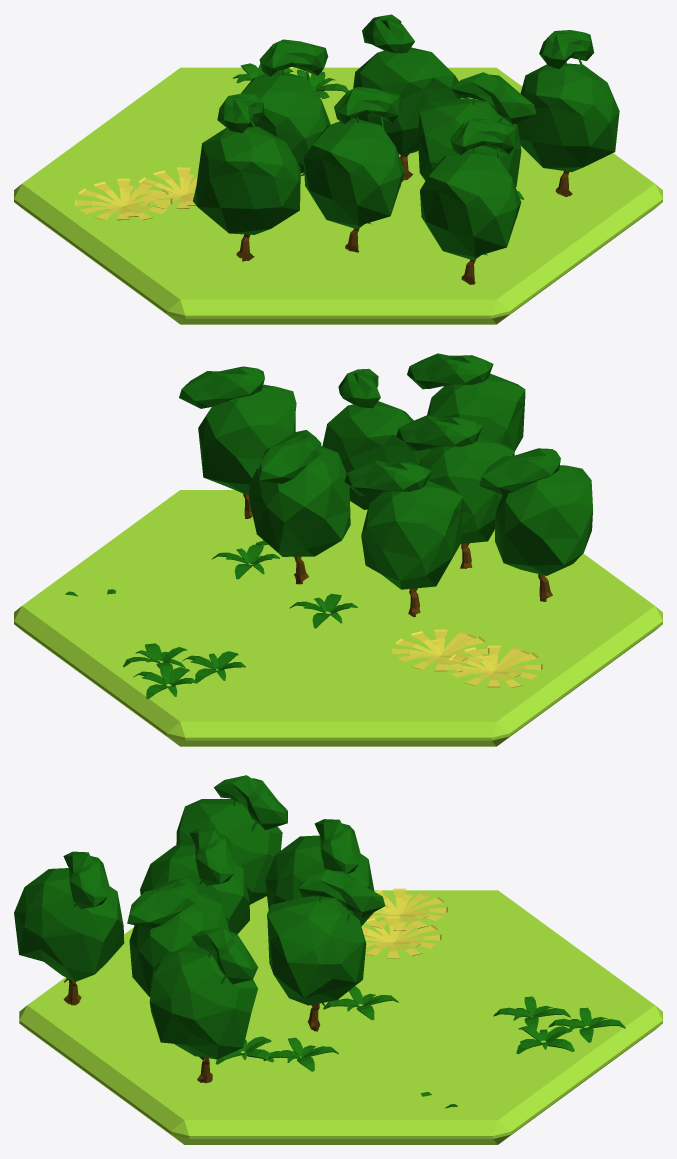
File: Wald.fbx
3 views of the same model, one above another, from view 1: azimuth 30°, elevation 25°; view 2: azimuth 150°, elevation 25°; view 3: azimuth 270°, elevation 25° (orthographic).
Parts seen in each view (by area): view 1: Cylinder.001, Bush_3.004, Bush_3.001, Bush_3.007, Bush_3.002, Bush_3.006, Bush_3.003, Bush_3.005, Plant_4, Plant_4.002, Plant_3.004; view 2: Cylinder.001, Bush_3.003, Bush_3.004, Bush_3.006, Bush_3.002, Bush_3.007, Bush_3.001, Bush_3.005, Plant_4, Plant_4.002, Plant_3.002, Plant_3.008 (+3 smaller); view 3: Cylinder.001, Bush_3.006, Bush_3.002, Bush_3.001, Bush_3.004, Bush_3.005, Bush_3.007, Bush_3.003, Plant_4.002, Plant_4, Plant_3.004, Plant_3.008 (+4 smaller).
Part boxes in pixels (x1,y1,x2,y2): Cylinder.001: [14, 67, 662, 324]; Bush_3.004: [193, 93, 300, 261]; Bush_3.001: [420, 118, 521, 284]; Bush_3.007: [303, 87, 404, 252]; Bush_3.002: [515, 30, 619, 196]; Bush_3.006: [353, 14, 460, 181]; Bush_3.003: [241, 39, 330, 173]; Bush_3.005: [418, 72, 536, 186]; Plant_4: [74, 178, 172, 220]; Plant_4.002: [134, 167, 197, 209]; Plant_3.004: [297, 69, 348, 98]; Cylinder.001: [14, 490, 662, 746]; Bush_3.003: [344, 460, 462, 617]; Bush_3.004: [479, 448, 592, 601]; Bush_3.006: [249, 430, 350, 584]; Bush_3.002: [179, 366, 296, 518]; Bush_3.007: [396, 415, 514, 568]; Bush_3.001: [407, 353, 525, 450]; Bush_3.005: [322, 369, 431, 509]; Plant_4: [445, 645, 542, 687]; Plant_4.002: [392, 629, 489, 671]; Plant_3.002: [182, 651, 245, 683]; Plant_3.008: [133, 667, 196, 699]; Cylinder.001: [19, 890, 662, 1144]; Bush_3.006: [267, 869, 385, 1031]; Bush_3.002: [149, 928, 258, 1083]; Bush_3.001: [14, 851, 124, 1005]; Bush_3.004: [176, 775, 287, 904]; Bush_3.005: [127, 878, 229, 996]; Bush_3.007: [140, 828, 249, 934]; Bush_3.003: [265, 819, 374, 926]; Plant_4.002: [361, 916, 441, 958]; Plant_4: [368, 888, 447, 930]; Plant_3.004: [516, 1026, 574, 1054]; Plant_3.008: [548, 1007, 625, 1042].
Size of the model in its own units: 322 by 113 by 368.
